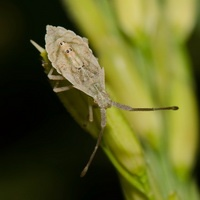insect: (30, 25, 178, 176)
